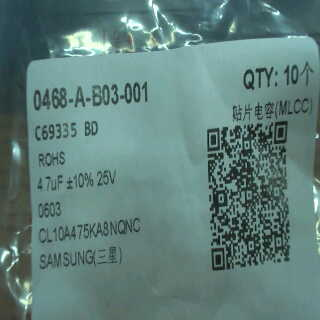4.7uF: (32, 170, 66, 201)
